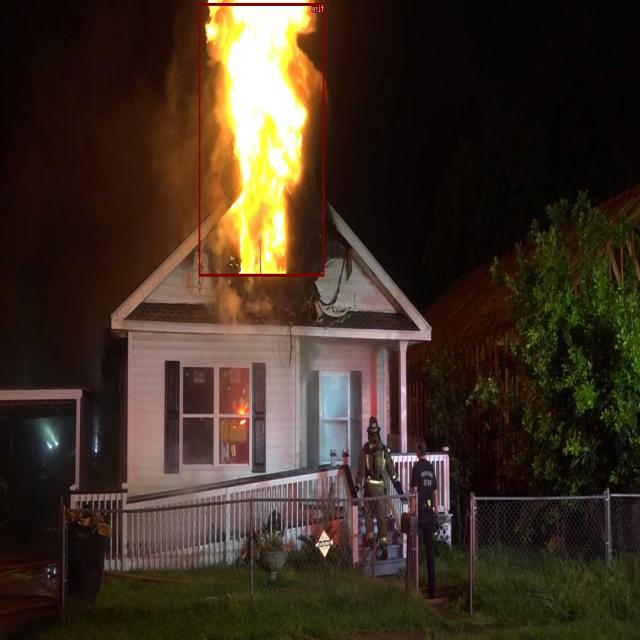fire: (199, 2, 324, 276)
